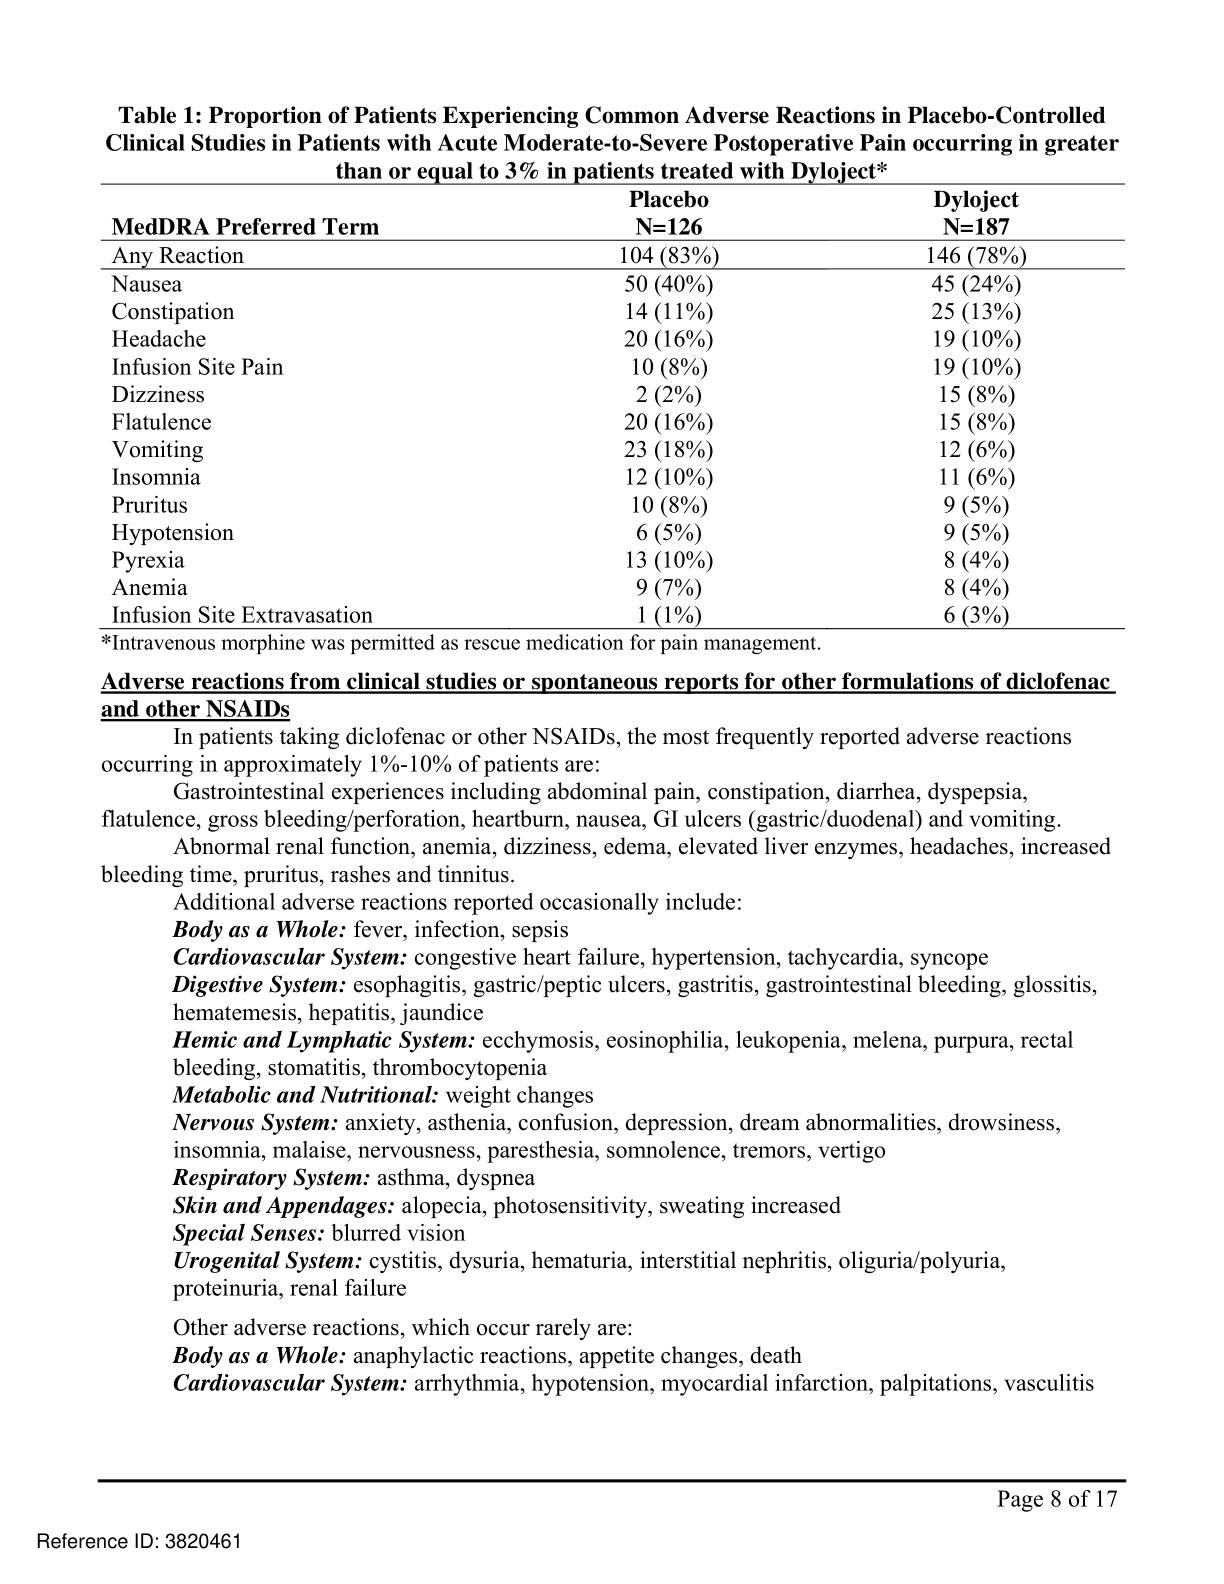partial_lined: (98, 181, 1128, 633)
